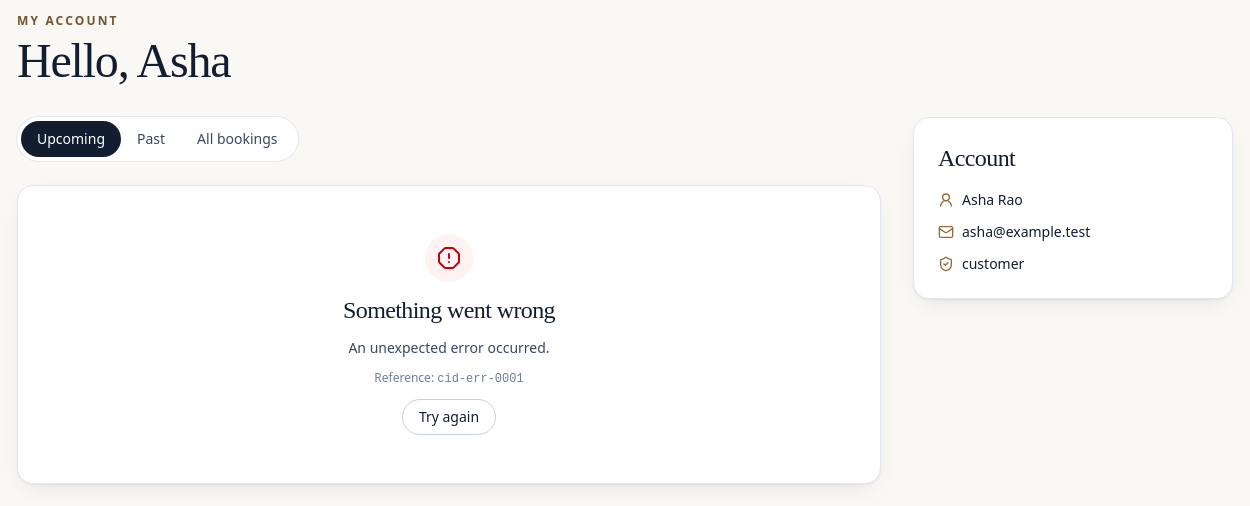
customer booking history › shows an error with its reference and recovers on retry
The width and height of the screenshot is (1250, 506).
Expected: the text "An unexpected error occurred." is shown, [348,338,550,358]
Expected: the text "cid-err-0001" is shown, [437,372,524,386]
Click the button "Try again": (449, 417) [402,399,496,435]
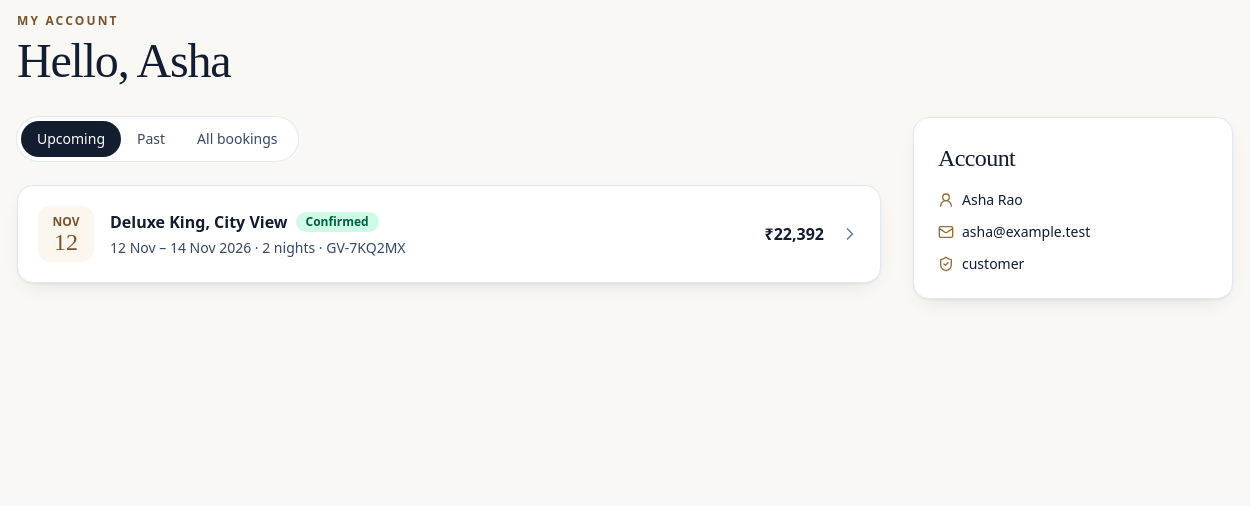
Expected: the text "Confirmed" is shown, [296,212,379,232]
